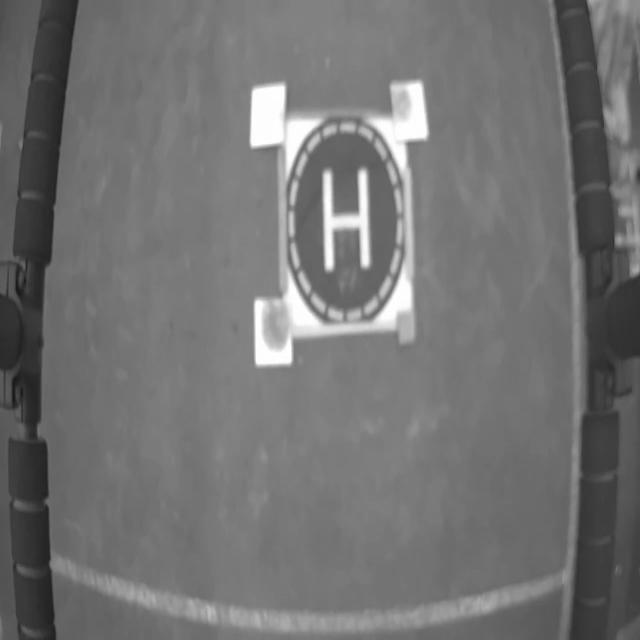Helipad: (321, 165, 372, 271)
